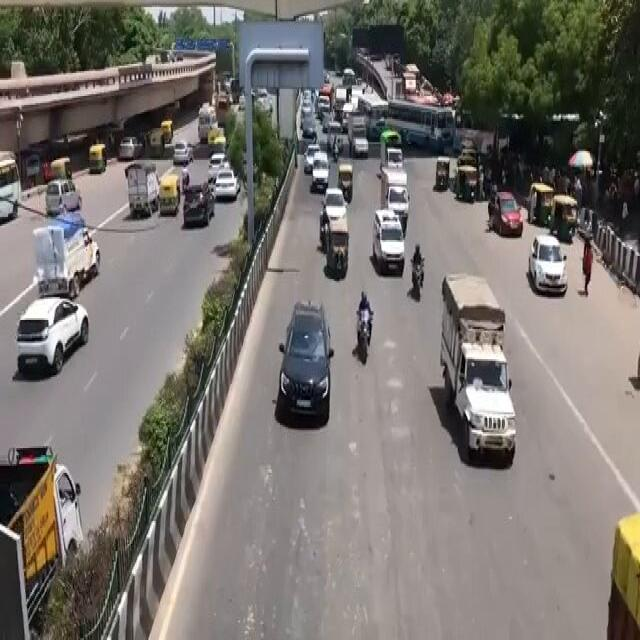three_wheeler: (322, 220, 355, 282)
